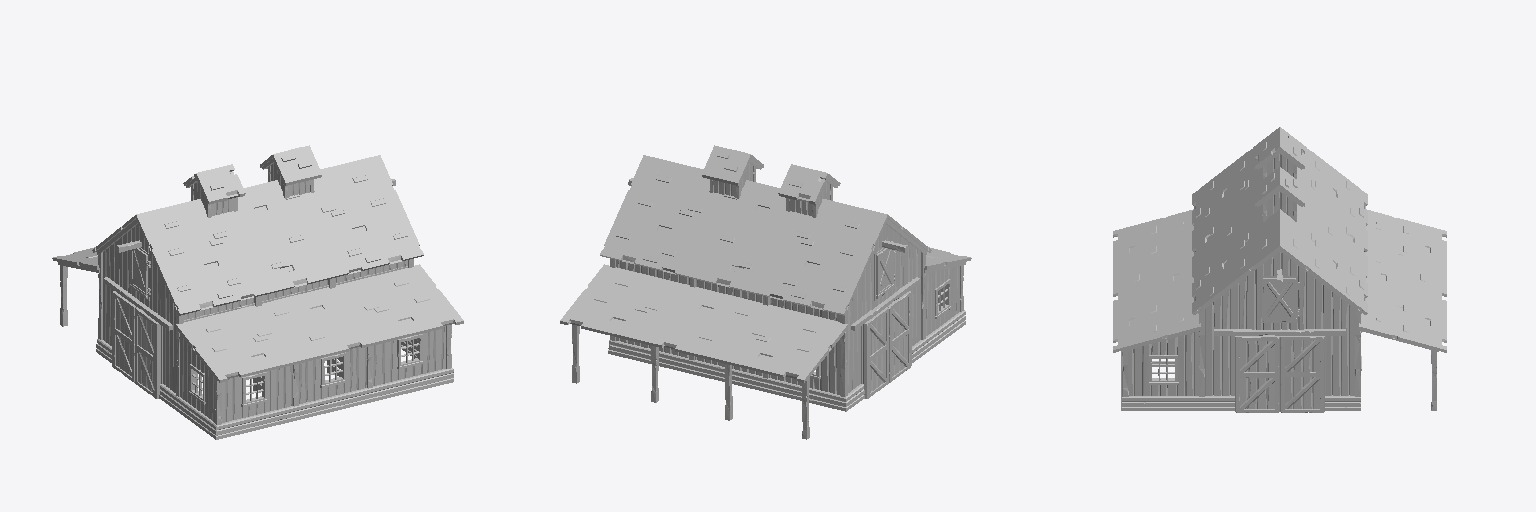
The model's file is SM_Bld_Barn_01.obj.
The picture shows the model from 3 angles: view 1: azimuth 30°, elevation 25°; view 2: azimuth 150°, elevation 25°; view 3: azimuth 270°, elevation 25°; orthographic projection.
Size of the model in its own units: 1349 by 911 by 1416.